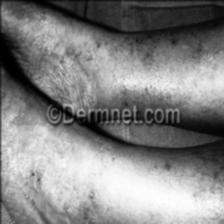Toxin: (0, 122, 47, 192)
